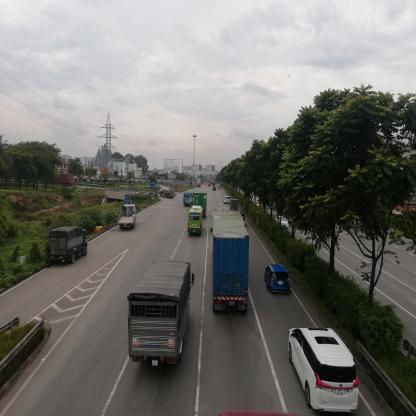bus: (189, 209, 205, 238), (185, 191, 193, 207)
car: (290, 329, 354, 410), (267, 266, 292, 294), (226, 197, 232, 203)
container: (215, 213, 246, 312), (55, 174, 75, 188), (194, 191, 207, 211)
truck: (126, 262, 194, 369), (47, 228, 88, 270), (120, 205, 137, 229), (159, 189, 178, 199), (231, 202, 240, 213)
